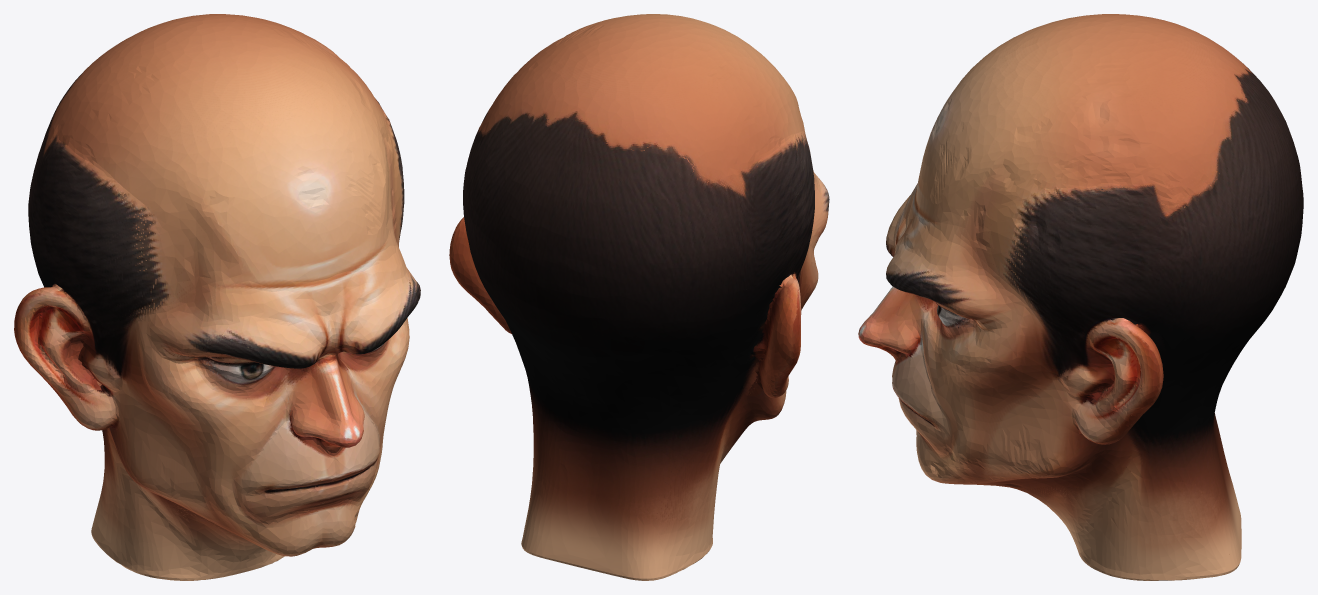
The model's file is side_h_bomonk_repaired_atlas.glb.
3 views of the same model, side by side, from view 1: azimuth 30°, elevation 25°; view 2: azimuth 150°, elevation 25°; view 3: azimuth 270°, elevation 25° (orthographic). The views are drawn at different scales.
Parts seen in each view (by area): view 1: temp_mesh.ply; view 2: temp_mesh.ply; view 3: temp_mesh.ply.
Part boxes in pixels (bbox=[...]): temp_mesh.ply: bbox=[14, 14, 420, 580]; temp_mesh.ply: bbox=[449, 14, 829, 580]; temp_mesh.ply: bbox=[858, 14, 1303, 580].
Bounding box in the file's own units: 0.9091 × 1.23 × 0.9688.
1 material, 1 textured.
